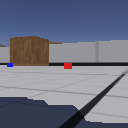blue_cube: (6, 62, 13, 68)
obstacle: (9, 35, 49, 66)
red_cube: (63, 62, 72, 70)
